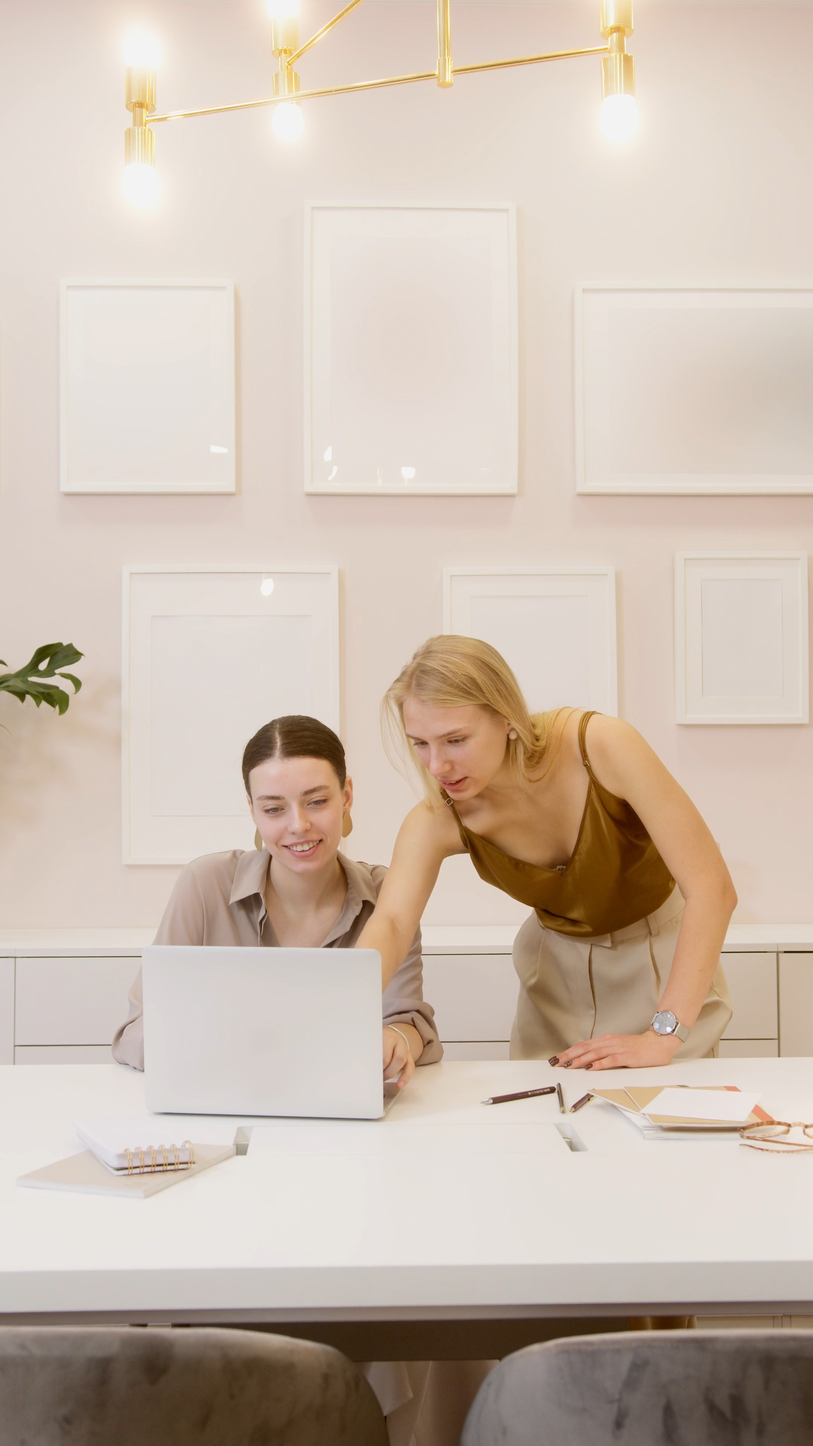No-gloves: (550, 1000, 696, 1088)
